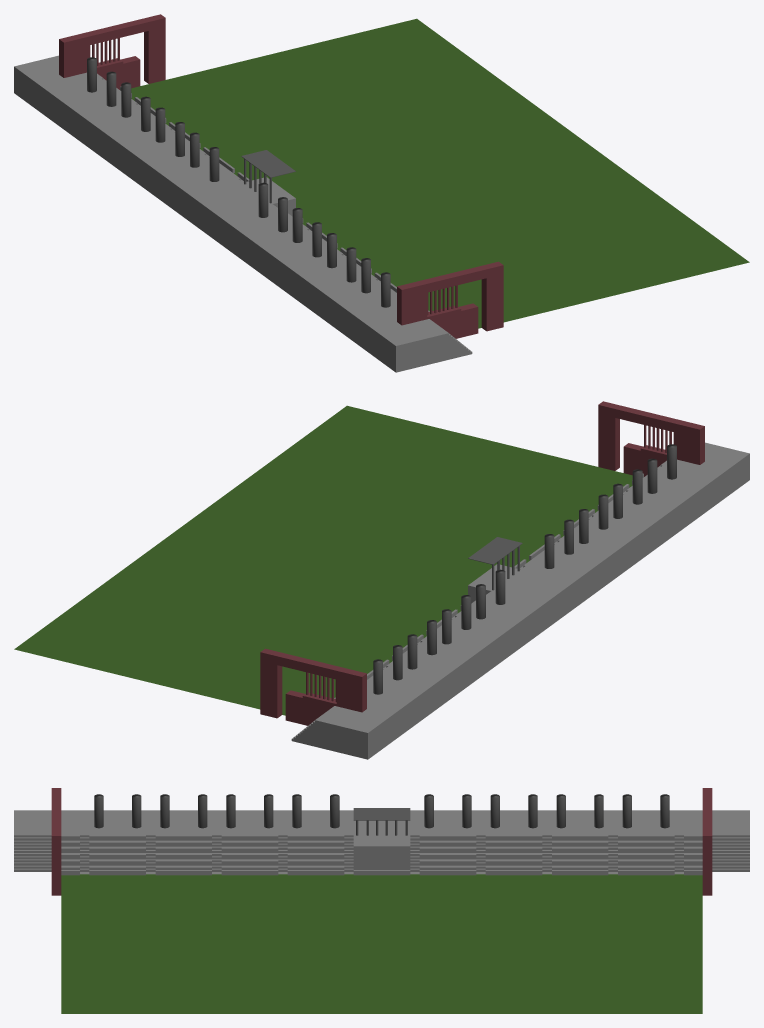
The model's file is Field.fbx.
The picture shows the model from 3 angles, top to bottom: view 1: azimuth 30°, elevation 25°; view 2: azimuth 150°, elevation 25°; view 3: azimuth 270°, elevation 25°; orthographic projection. The views are drawn at different scales.
Visible parts, largest first — view 1: 평면, 큐브.014, 실린더.029, 실린더.022, 큐브.015, 큐브.012, 큐브.016, 큐브.011, Cube.001; view 2: 평면, 큐브.014, 실린더.022, 실린더.029, 큐브.016, 큐브.012, 큐브.015, 큐브.011, Cube.001; view 3: 평면, 큐브.014, 큐브.012, Cube.002, Cube.003, Cube.007, Cube.014, Cube.001, Cube.009, Cube.011, Cube.016, Cube.018 (+9 smaller).
Part boxes in pixels (x1,y1,x2,y2): 평면: (131, 18, 749, 328); 큐브.014: (33, 74, 401, 357); 실린더.029: (397, 261, 503, 338); 실린더.022: (59, 14, 165, 89); 큐브.015: (376, 319, 446, 372); 큐브.012: (81, 72, 396, 304); 큐브.016: (14, 55, 58, 106); 큐브.011: (241, 150, 295, 177); Cube.001: (241, 177, 295, 216); 평면: (14, 405, 632, 715); 큐브.014: (362, 461, 730, 744); 실린더.022: (260, 648, 366, 725); 실린더.029: (598, 401, 704, 476); 큐브.016: (317, 706, 387, 759); 큐브.012: (367, 459, 682, 691); 큐브.015: (705, 442, 749, 493); 큐브.011: (468, 537, 522, 564); Cube.001: (468, 564, 522, 603); 평면: (61, 874, 702, 1013); 큐브.014: (61, 810, 702, 830); 큐브.012: (61, 830, 702, 834); Cube.002: (419, 834, 476, 869); Cube.003: (287, 834, 344, 869); Cube.007: (485, 834, 542, 869); Cube.014: (221, 834, 278, 869); Cube.001: (353, 834, 410, 869); Cube.009: (552, 834, 608, 869); Cube.011: (618, 834, 674, 869); Cube.016: (155, 834, 211, 869); Cube.018: (89, 834, 145, 869).
Size of the model in its own units: 8925 by 1400 by 15600.
